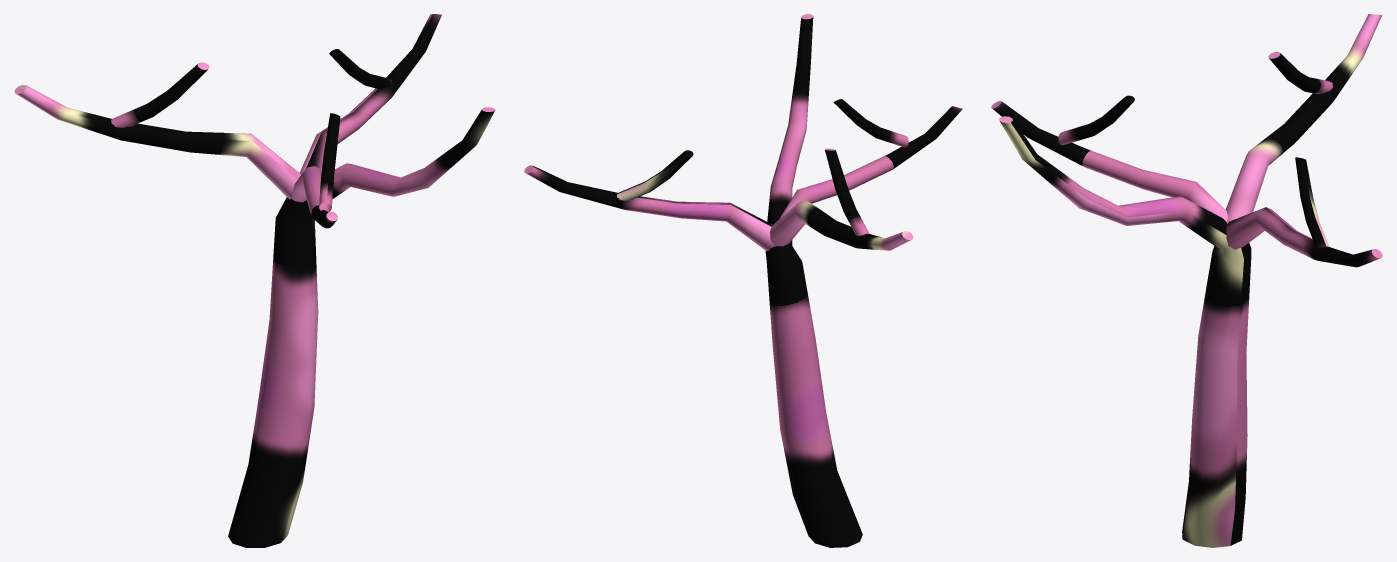
File: DeadTree_2.obj
3 views of the same model, side by side, from view 1: azimuth 30°, elevation 25°; view 2: azimuth 150°, elevation 25°; view 3: azimuth 270°, elevation 25° (orthographic). The views are drawn at different scales.
Visible parts, largest first — view 1: DeadTree_2_Cylinder.039; view 2: DeadTree_2_Cylinder.039; view 3: DeadTree_2_Cylinder.039.
Part boxes in pixels (box(x1,y1,x2,y2)): DeadTree_2_Cylinder.039: box(14, 14, 495, 547); DeadTree_2_Cylinder.039: box(524, 14, 962, 547); DeadTree_2_Cylinder.039: box(991, 14, 1382, 547).
Bounding box in the file's own units: 4.6 × 4.83 × 3.54.
Materials: 1 (1 with a texture image).
